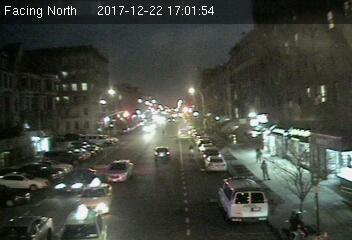car: (76, 177, 113, 217), (53, 166, 97, 195), (103, 158, 136, 185), (203, 154, 229, 172), (152, 146, 171, 160), (177, 128, 191, 140)
pedestrian: (259, 158, 272, 183)
police: (217, 176, 269, 223)
